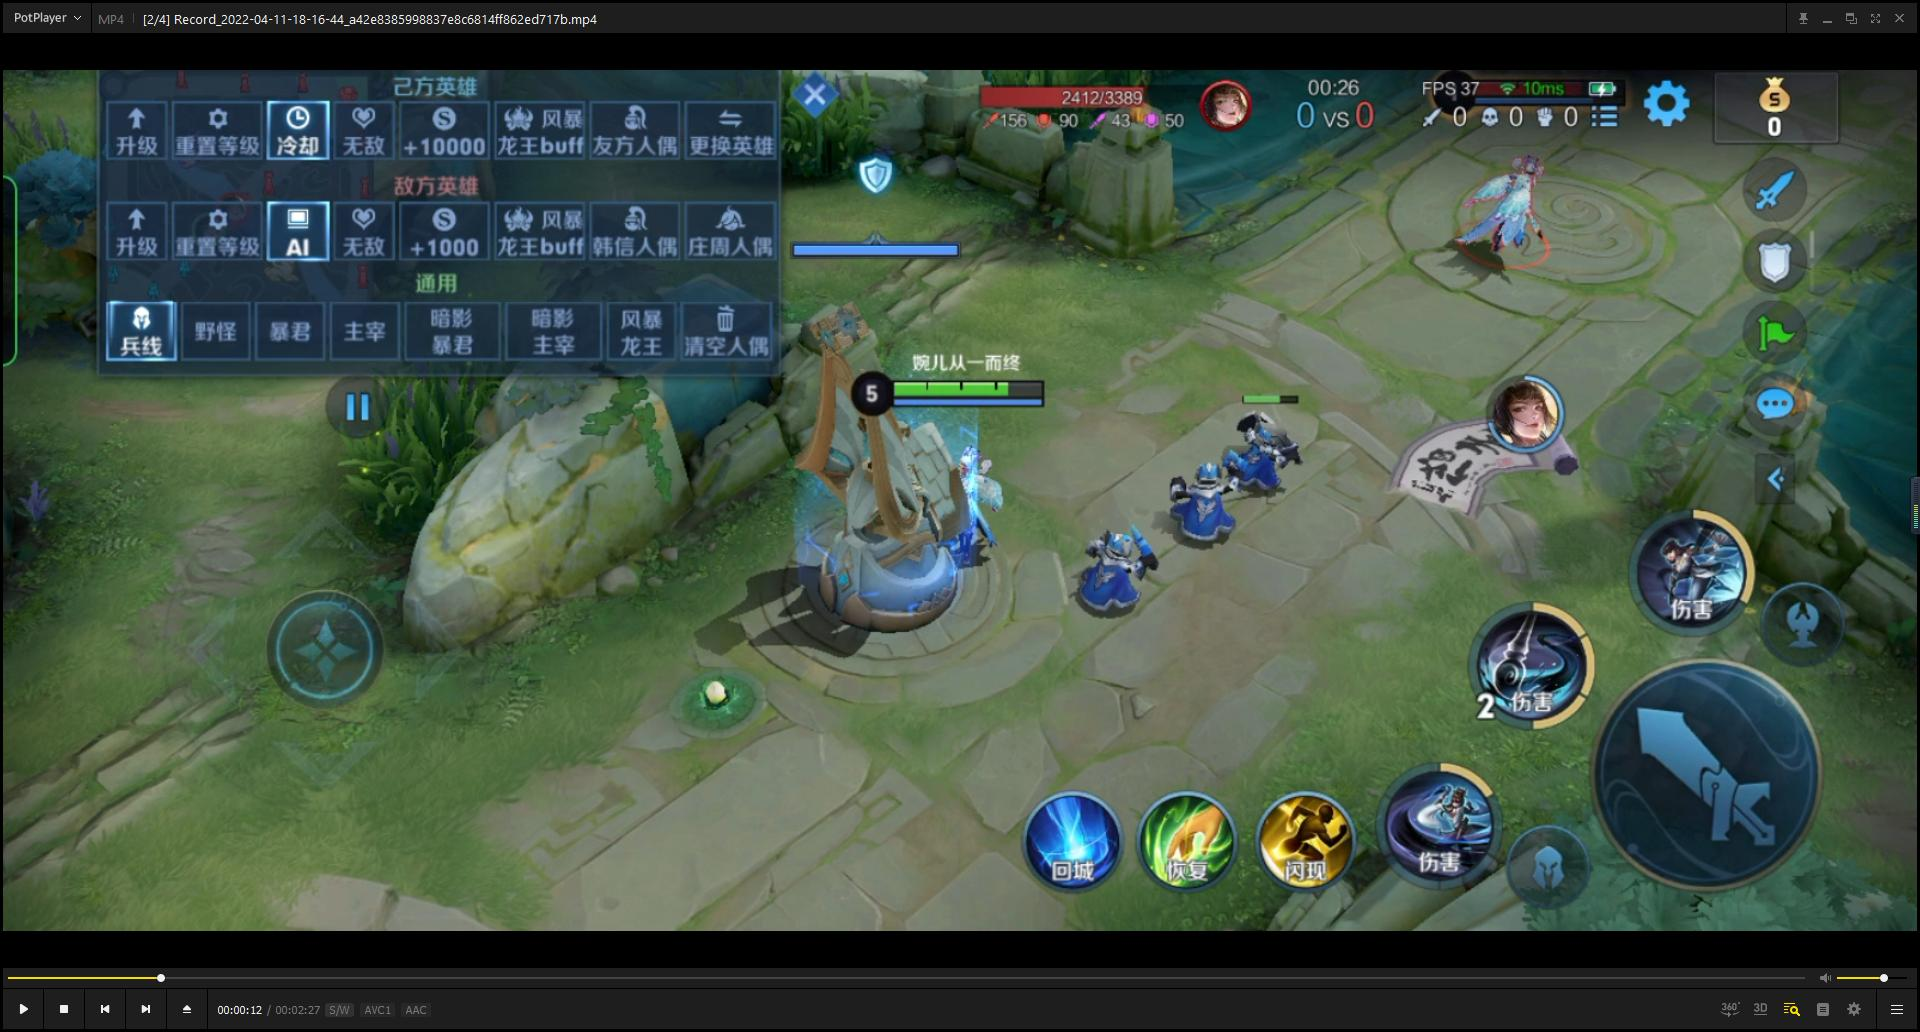Hero: (1443, 153, 1591, 328), (900, 422, 1017, 568)
Solider: (1053, 499, 1217, 662), (1217, 358, 1344, 511), (1141, 461, 1285, 572)
Tower: (776, 244, 984, 639)
